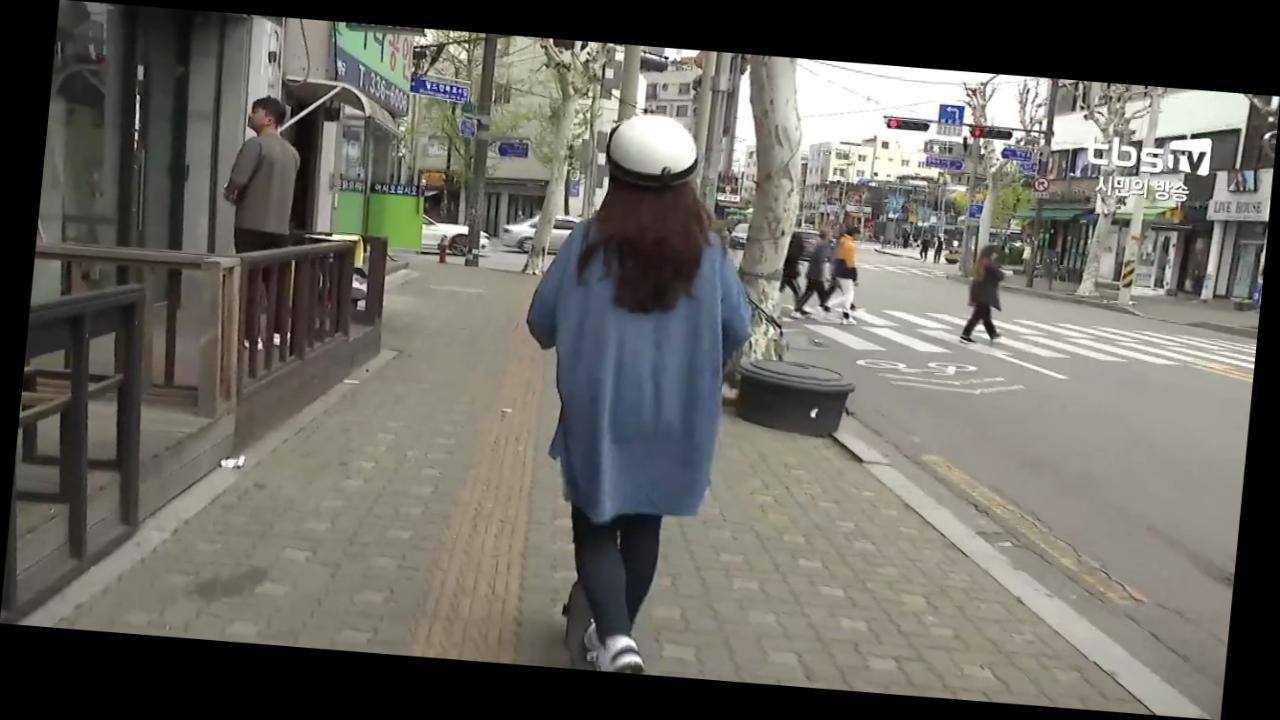helmet: (490, 102, 778, 681)
